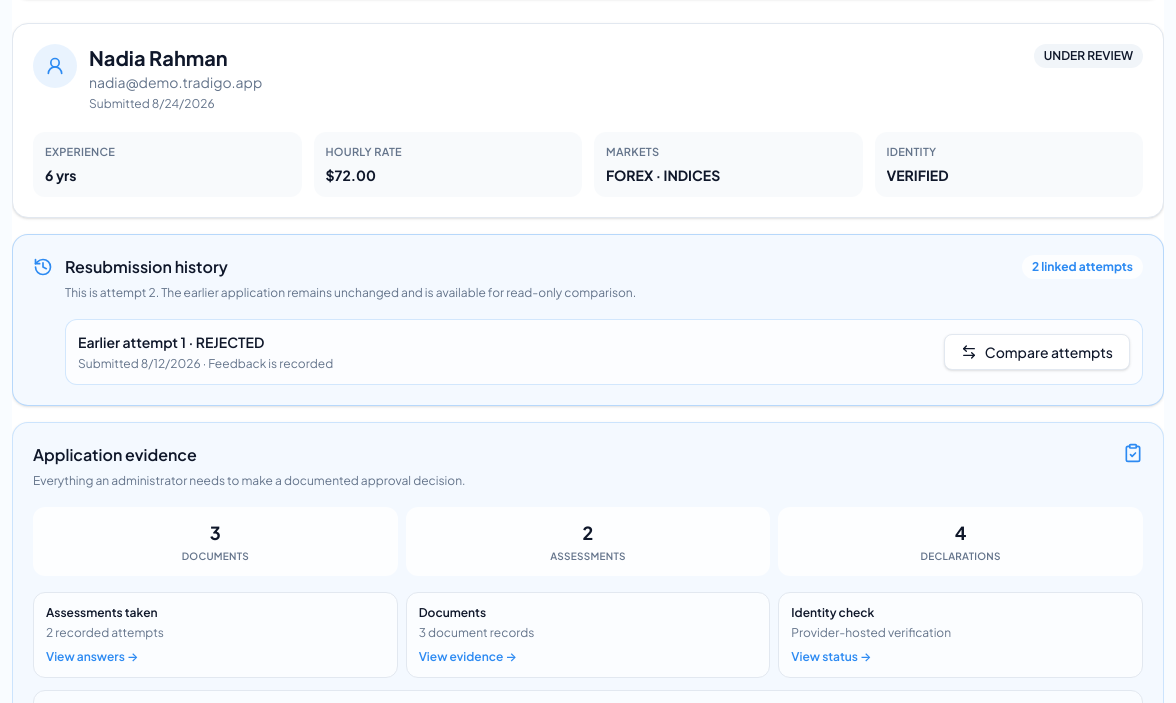
Test: AdminApplications › compares a linked earlier attempt with its decision evidence in read-only mode
This screenshot has width=1176, height=703.
(page scrolled)
Click the button "Compare attempts". click: click(1037, 352)
box: [944,334,1130,370]
(page scrolled)
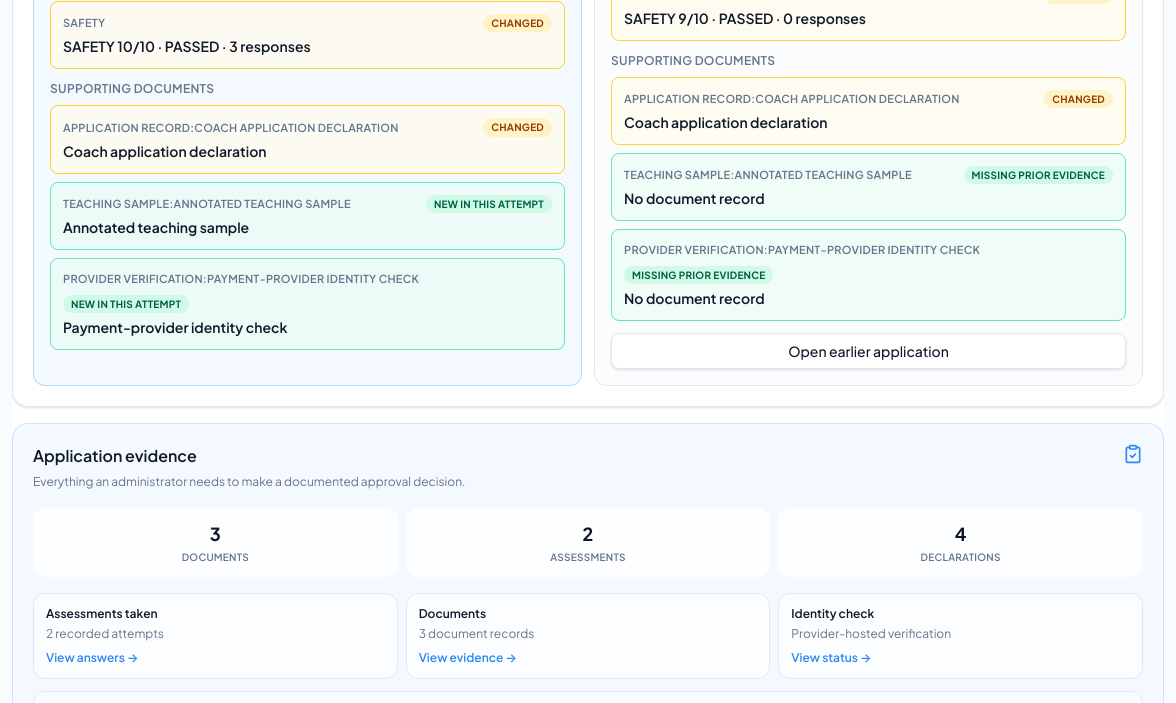
Result: the 1st text "Coach application declaration" is shown at [624,113,828,131]
Result: the button "Open earlier application" is shown at [611,333,1126,369]
